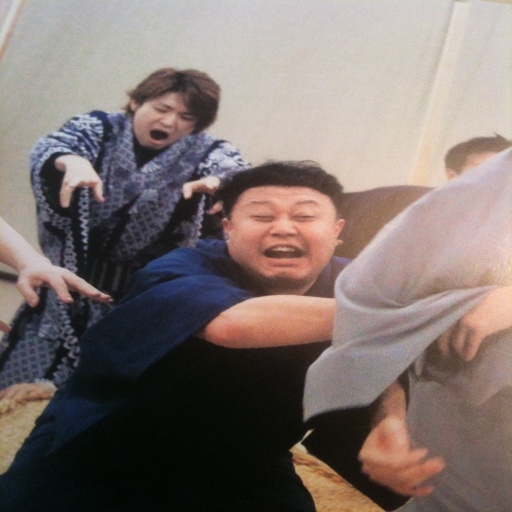hand: (360, 415, 445, 496), (5, 242, 104, 309), (435, 284, 511, 361), (56, 156, 104, 208), (177, 176, 226, 215), (0, 321, 12, 332)
